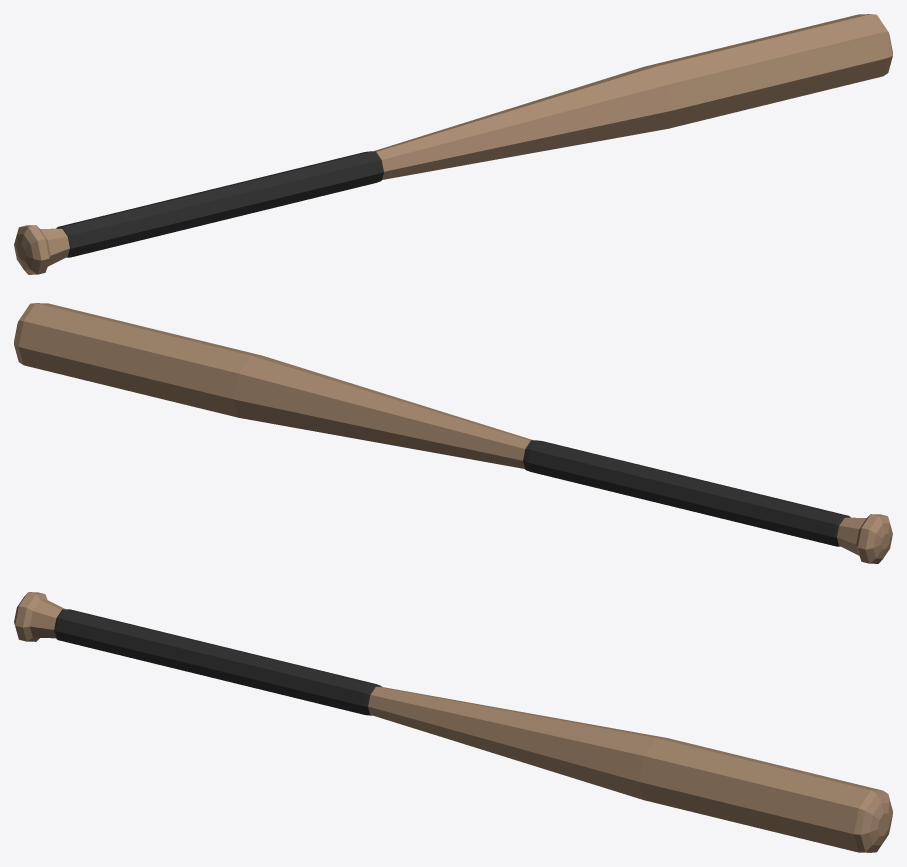
File: BaseballBat.fbx
3 renders of one model, top to bottom at view 1: azimuth 30°, elevation 25°; view 2: azimuth 150°, elevation 25°; view 3: azimuth 330°, elevation 25°, orthographic.
Visible parts, largest first — view 1: BaseballBat; view 2: BaseballBat; view 3: BaseballBat.
Part boxes in pixels (<box>): BaseballBat: <box>14,14,892,274</box>; BaseballBat: <box>14,303,892,563</box>; BaseballBat: <box>14,592,892,852</box>.
Size of the model in its own units: 0.0912 by 0.0912 by 1.32.
